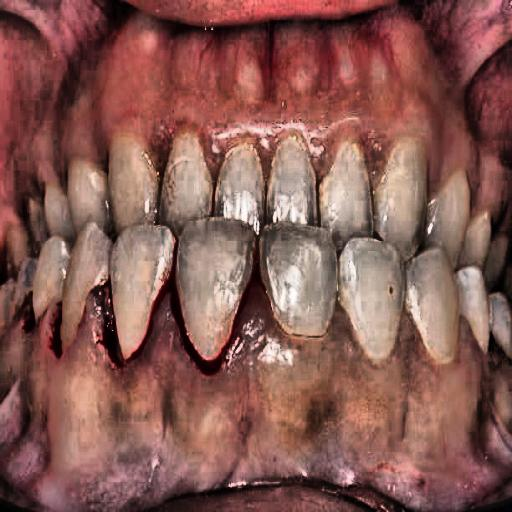Gingivitis: (7, 284, 276, 493), (257, 312, 512, 501)
